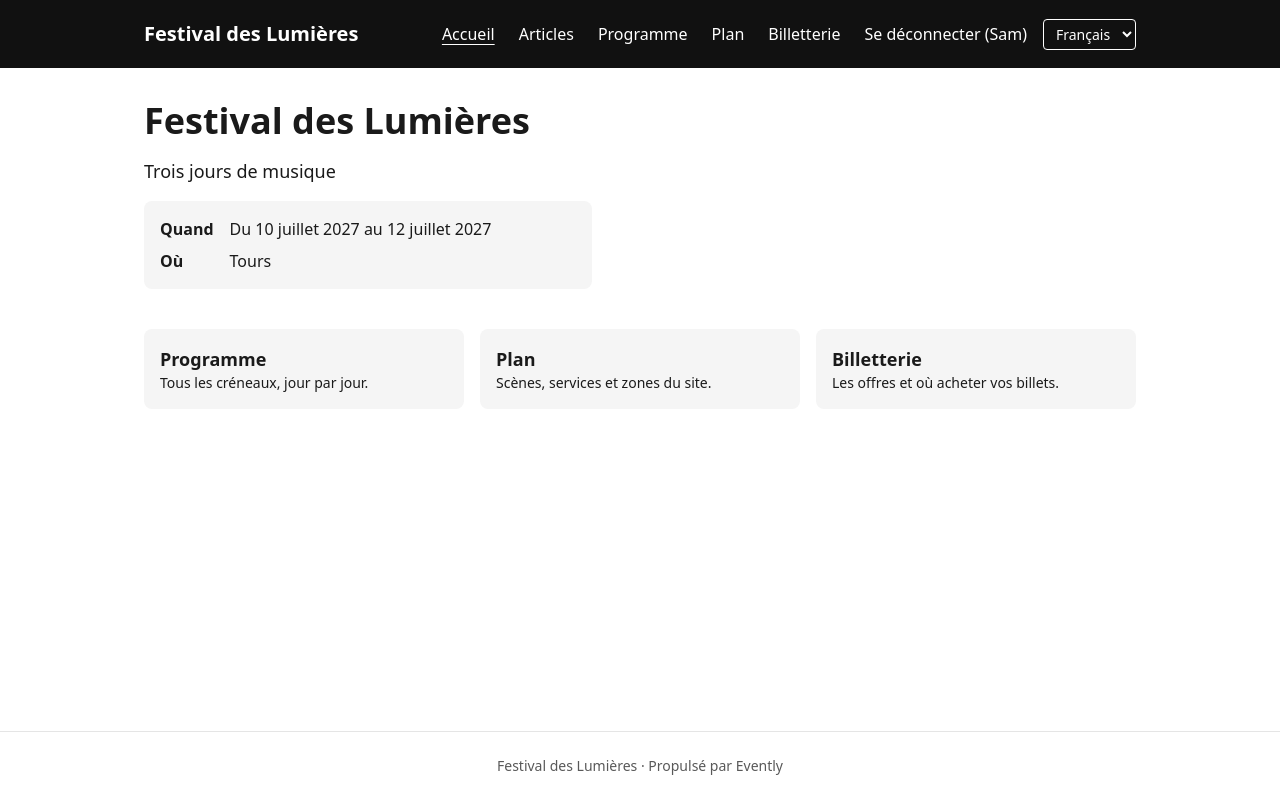
it: login and registration › logs out from the header
The width and height of the screenshot is (1280, 800).
Click the button "Se déconnecter (Sam)". click: click(946, 34)
box: x1=856 y1=12 x2=1035 y2=56
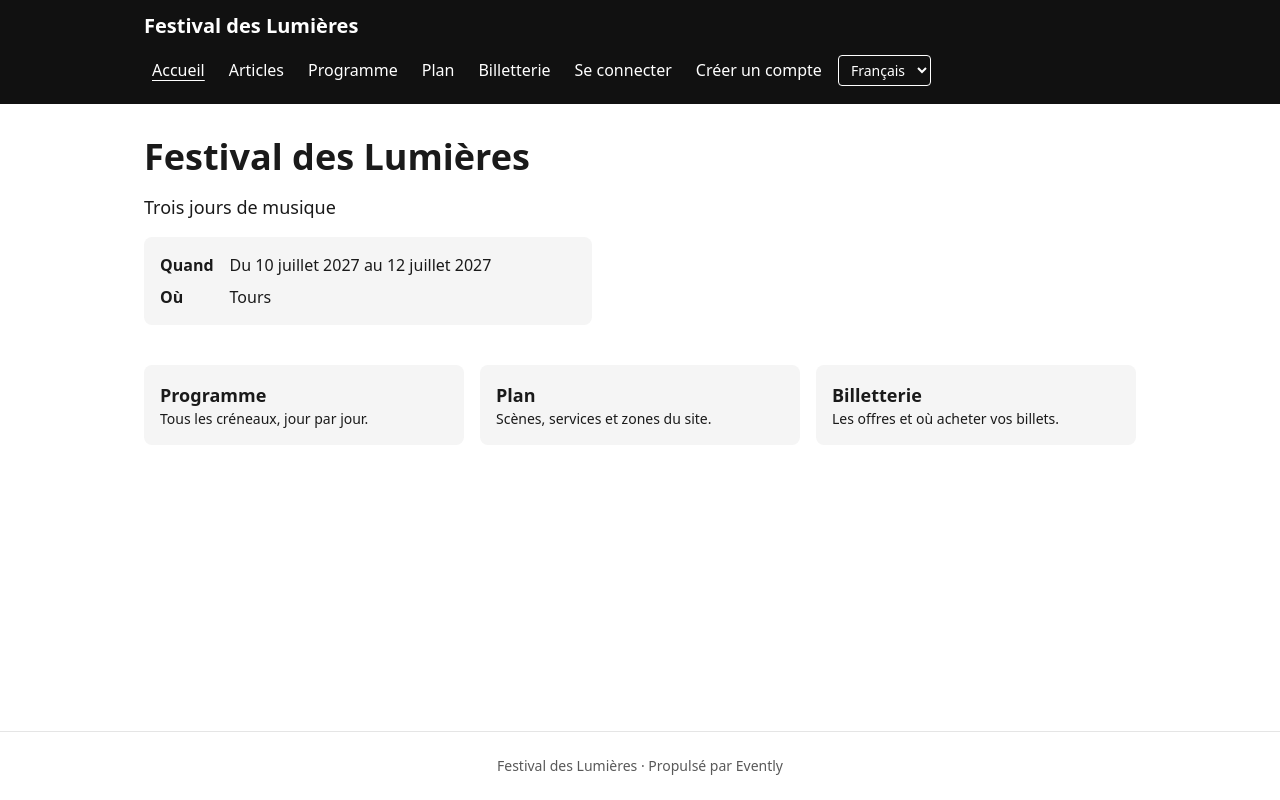
Expected: the link "Se connecter" is shown, x1=574 y1=59 x2=672 y2=81
